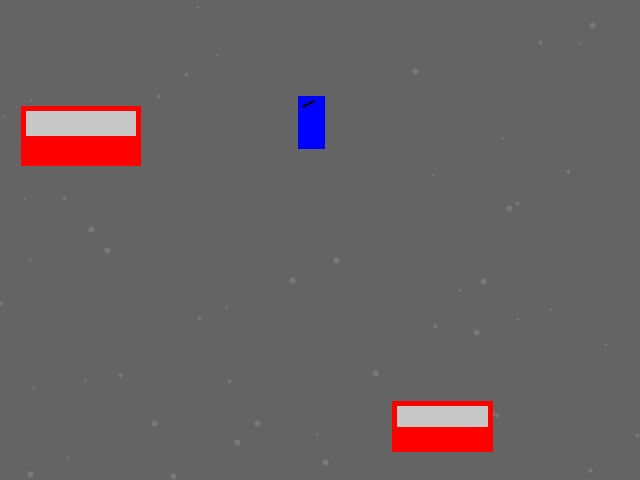car: (21, 106, 140, 165), (392, 401, 492, 451)
motorcycle: (298, 96, 324, 148)
